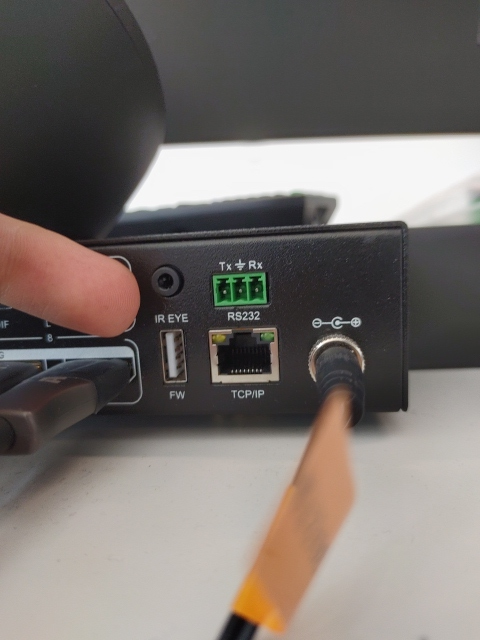3.5mm_audio: (152, 269, 178, 295)
Ethernet: (209, 333, 277, 381)
USB: (160, 330, 187, 385)
